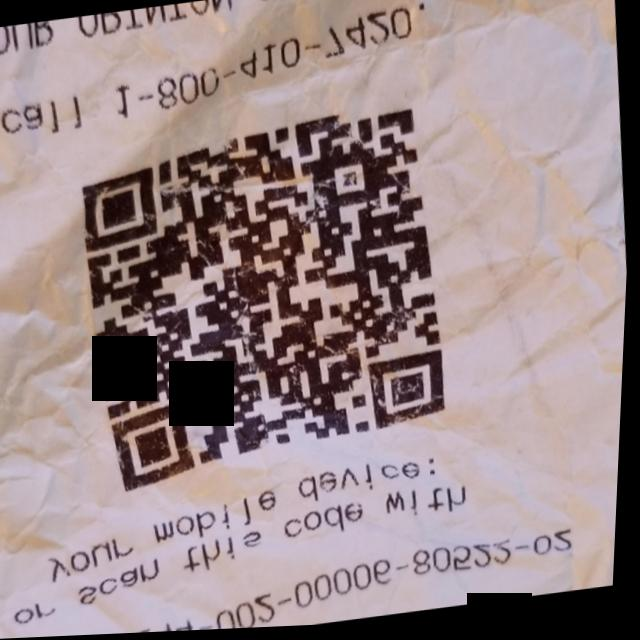QR_CODE: (57, 82, 477, 509)
